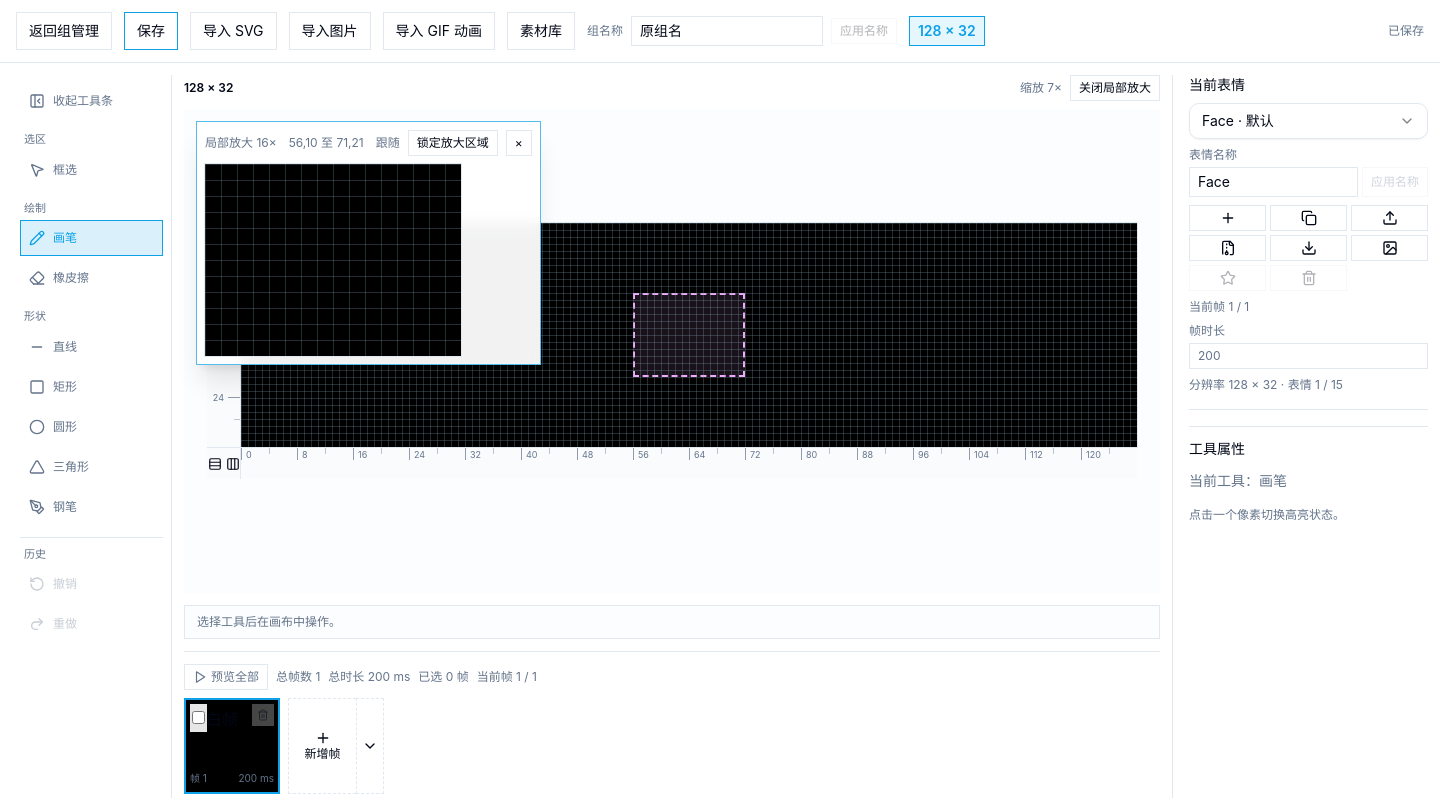
renames the group in the editor and stays clean after saving
Step 1. Replace the text in the field labelled "组名称" with "新的组名" → [727, 31], box x1=631 y1=16 x2=823 y2=46
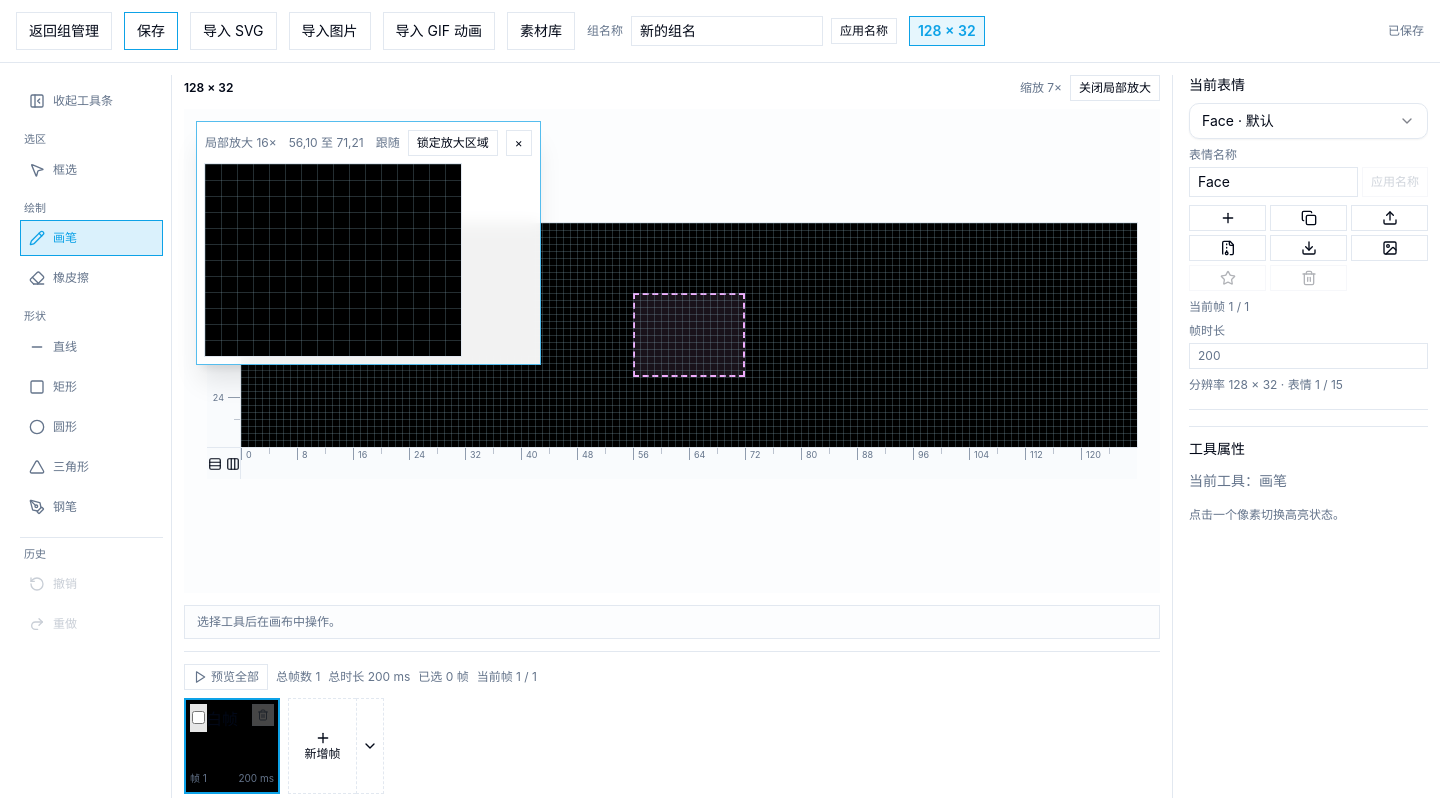
Step 2. Click the button with aria-label "应用组名称" → [864, 31], box x1=831 y1=18 x2=897 y2=44
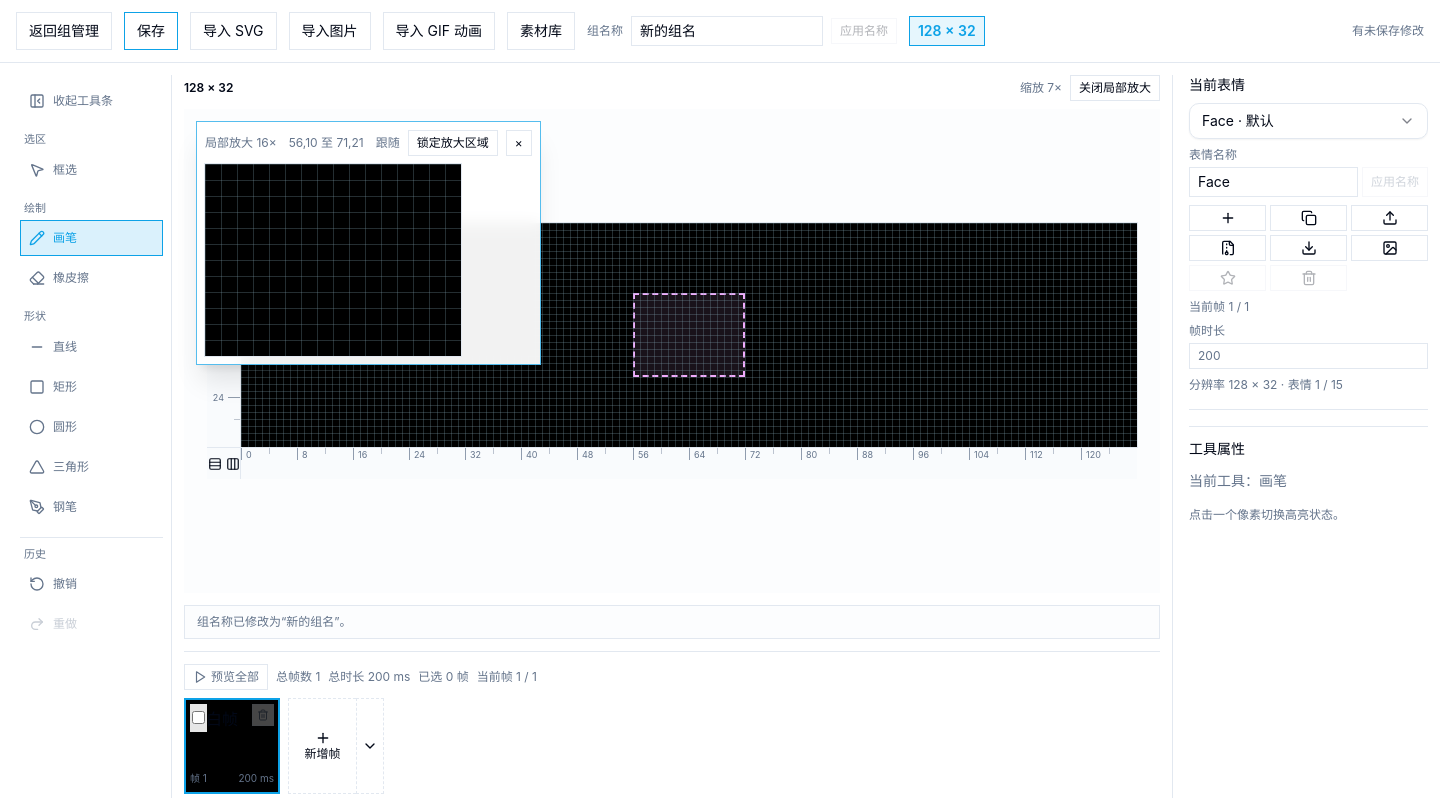
Expected: the text "有未保存修改" is shown, x1=1352 y1=23 x2=1424 y2=39
Step 3. Click the button "保存" → [151, 31], box x1=124 y1=12 x2=178 y2=50
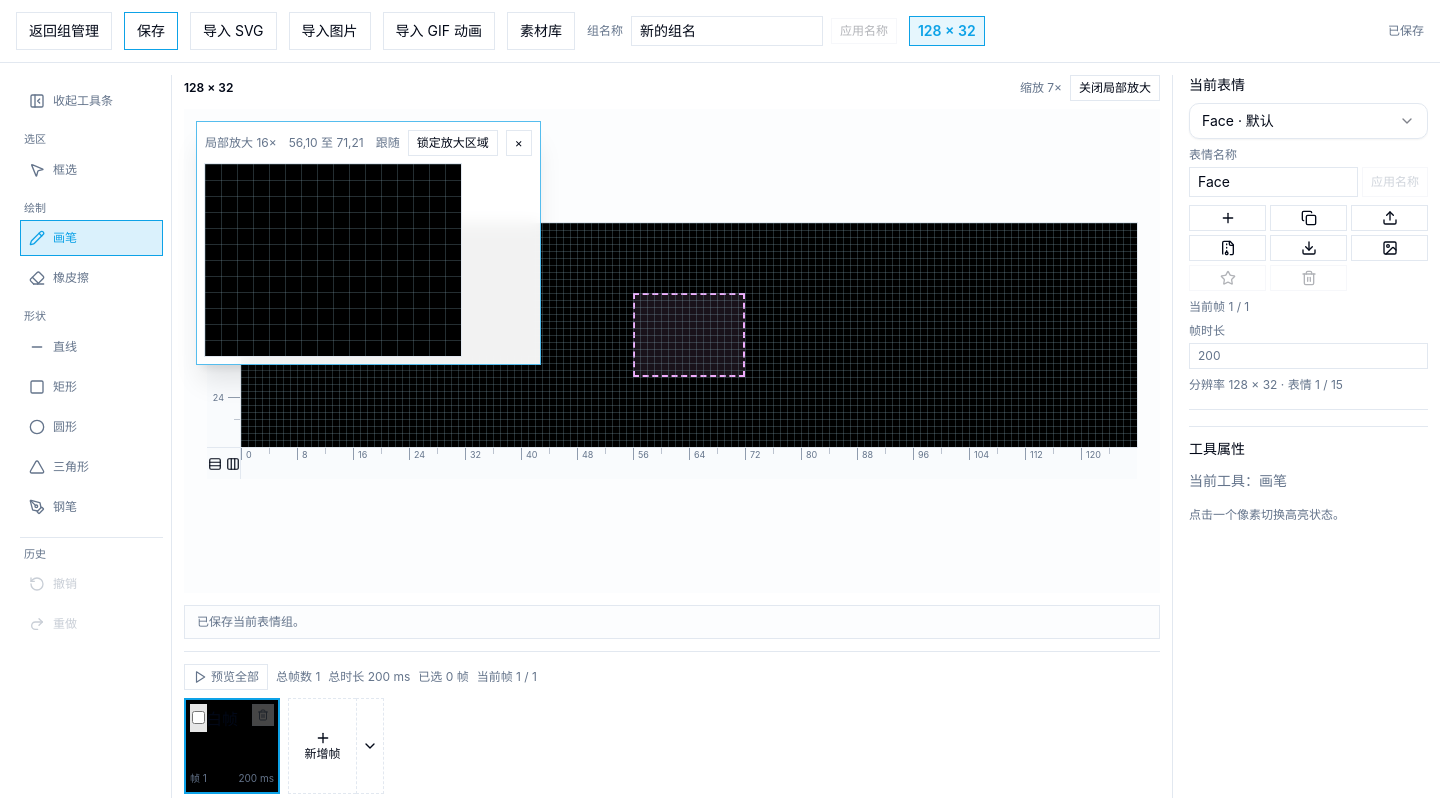
Expected: the text "已保存" is shown, x1=1388 y1=23 x2=1424 y2=39
